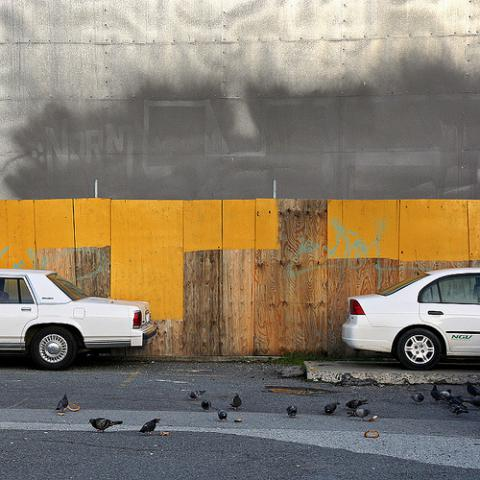car: (0, 268, 160, 372), (343, 268, 479, 371)
